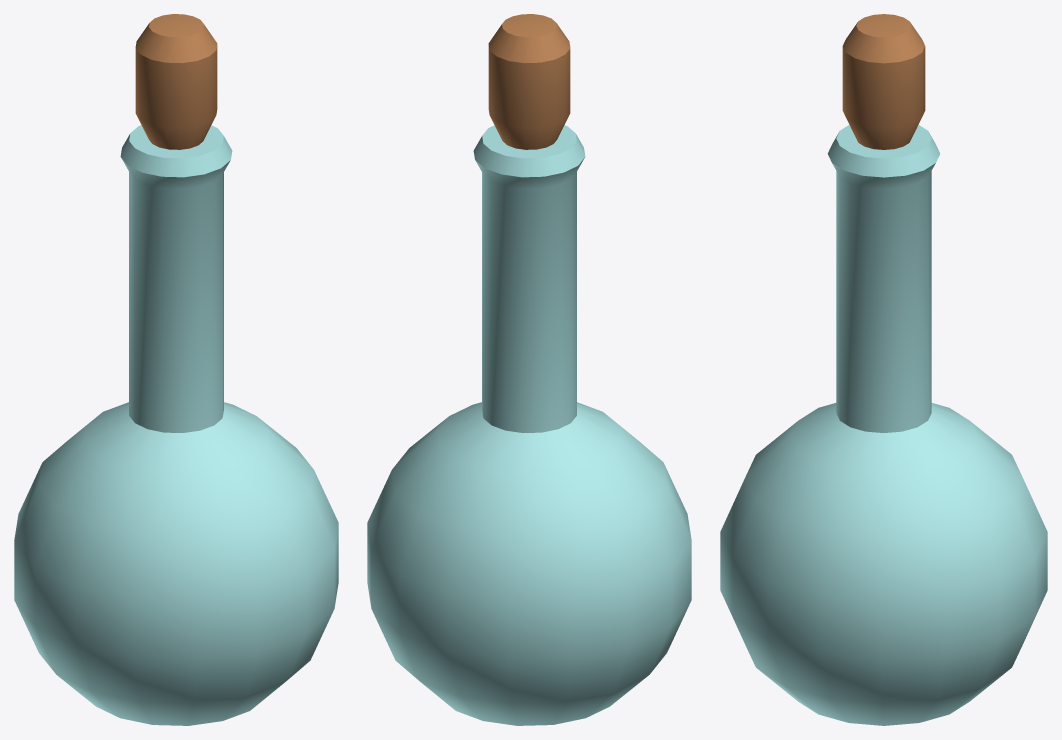
The model's file is testBottleEmpty.fbx.
3 renders of one model, left to right at view 1: azimuth 30°, elevation 25°; view 2: azimuth 150°, elevation 25°; view 3: azimuth 270°, elevation 25°, orthographic.
Parts seen in each view (by area): view 1: Sphere; view 2: Sphere; view 3: Sphere.
Part boxes in pixels (x1,y1,x2,y2): Sphere: (14, 14, 338, 725); Sphere: (367, 14, 691, 725); Sphere: (720, 14, 1047, 725).
Size of the model in its own units: 196 by 456 by 196.
